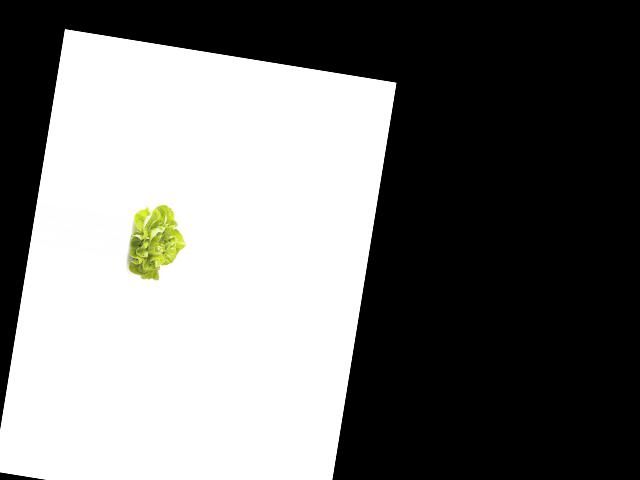lettuce: (123, 197, 191, 286)
